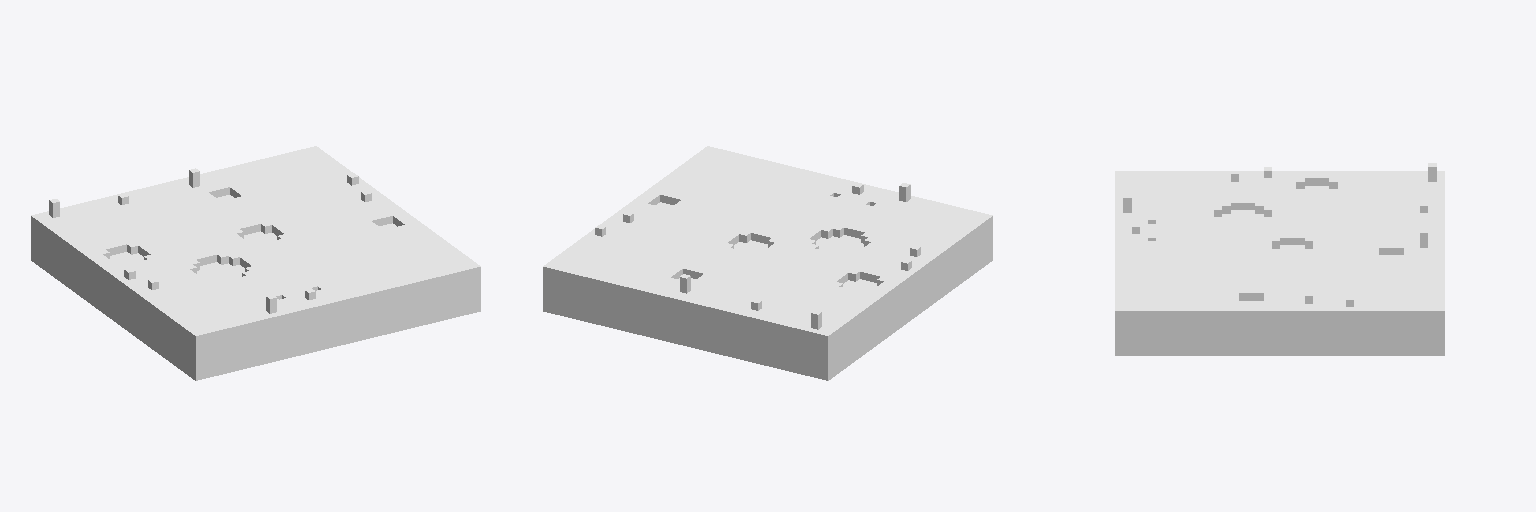
The model's file is SurfaceTile3.obj.
The picture shows the model from 3 angles: view 1: azimuth 30°, elevation 25°; view 2: azimuth 150°, elevation 25°; view 3: azimuth 270°, elevation 25°; orthographic projection.
Visible parts, largest first — view 1: object 1; view 2: object 1; view 3: object 1.
Boxes of the visible parts, box(x1,y1,x2,y2) form: object 1: box(31, 146, 480, 380); object 1: box(543, 146, 992, 380); object 1: box(1115, 163, 1444, 355).
Size of the model in its own units: 4 by 0.8 by 4.